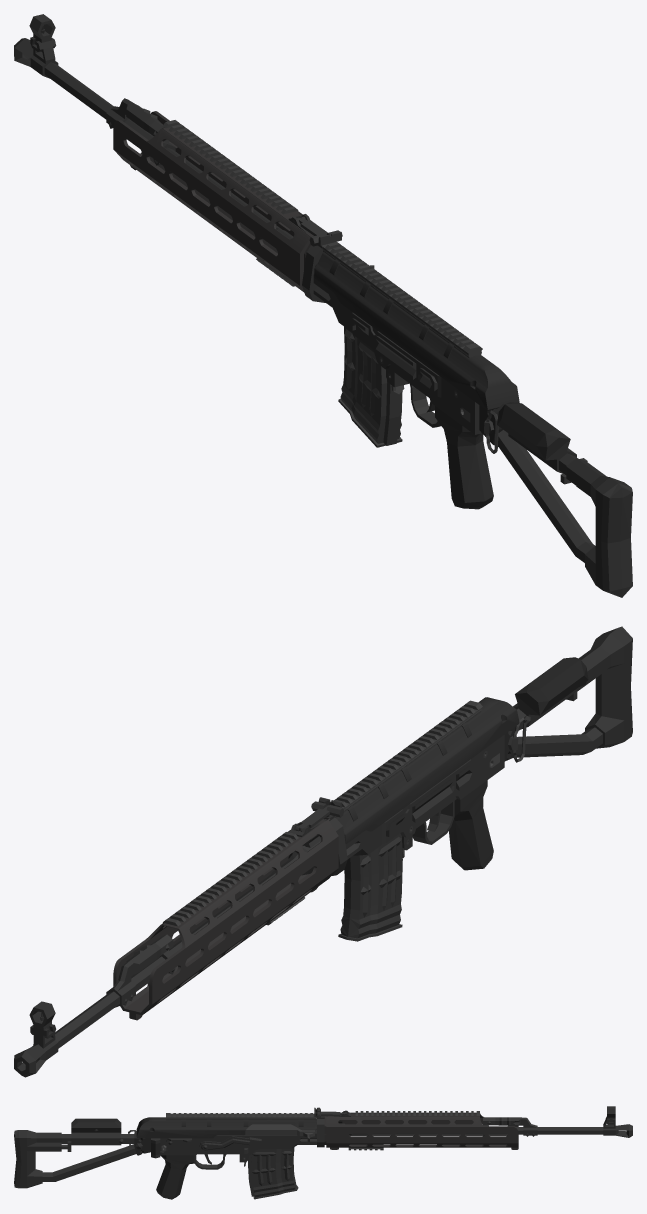
File: example_svds.glb
3 views of the same model, one above another, from view 1: azimuth 30°, elevation 25°; view 2: azimuth 150°, elevation 25°; view 3: azimuth 270°, elevation 25° (orthographic). The views are drawn at different scales.
Visible parts, largest first — view 1: svds_stock_6, object 8, object 10, svds_reciever_3, object 9, svds_barrel_0, svds_magazine_8, svds_pistol_grip_4; view 2: object 8, svds_stock_6, object 10, svds_reciever_3, svds_barrel_0, svds_magazine_8, object 9, svds_pistol_grip_4, svds_rear_sight_5; view 3: object 8, svds_stock_6, svds_reciever_3, object 10, svds_magazine_8, svds_barrel_0, object 9, svds_pistol_grip_4, svds_boltcarrier_2, svds_rear_sight_5.
Part boxes in pixels (x1,y1,x2,y2): svds_stock_6: (479,402,632,597); object 8: (113,111,336,292); object 10: (314,252,519,410); svds_reciever_3: (302,245,481,434); object 9: (163,120,482,358); svds_barrel_0: (14,14,333,253); svds_magazine_8: (338,326,402,447); svds_pistol_grip_4: (435,406,493,509); object 8: (113,817,338,1020); svds_stock_6: (504,626,632,762); object 10: (336,697,519,843); svds_reciever_3: (329,735,504,875); svds_barrel_0: (14,815,335,1077); svds_magazine_8: (338,833,402,941); object 9: (163,700,482,926); svds_pistol_grip_4: (449,780,493,870); svds_rear_sight_5: (295,797,344,832); object 8: (324,1112,518,1149); svds_stock_6: (14,1118,160,1188); svds_reciever_3: (151,1119,324,1169); object 10: (136,1117,316,1138); svds_magazine_8: (248,1147,298,1199); svds_barrel_0: (317,1106,632,1137); object 9: (166,1111,479,1120); svds_pistol_grip_4: (156,1155,194,1199); svds_boltcarrier_2: (243,1124,314,1141); svds_rear_sight_5: (314,1107,346,1118).
Bounding box in the file's own units: 0.389 × 1.04 × 6.44.
Materials: 4 (1 with a texture image).
